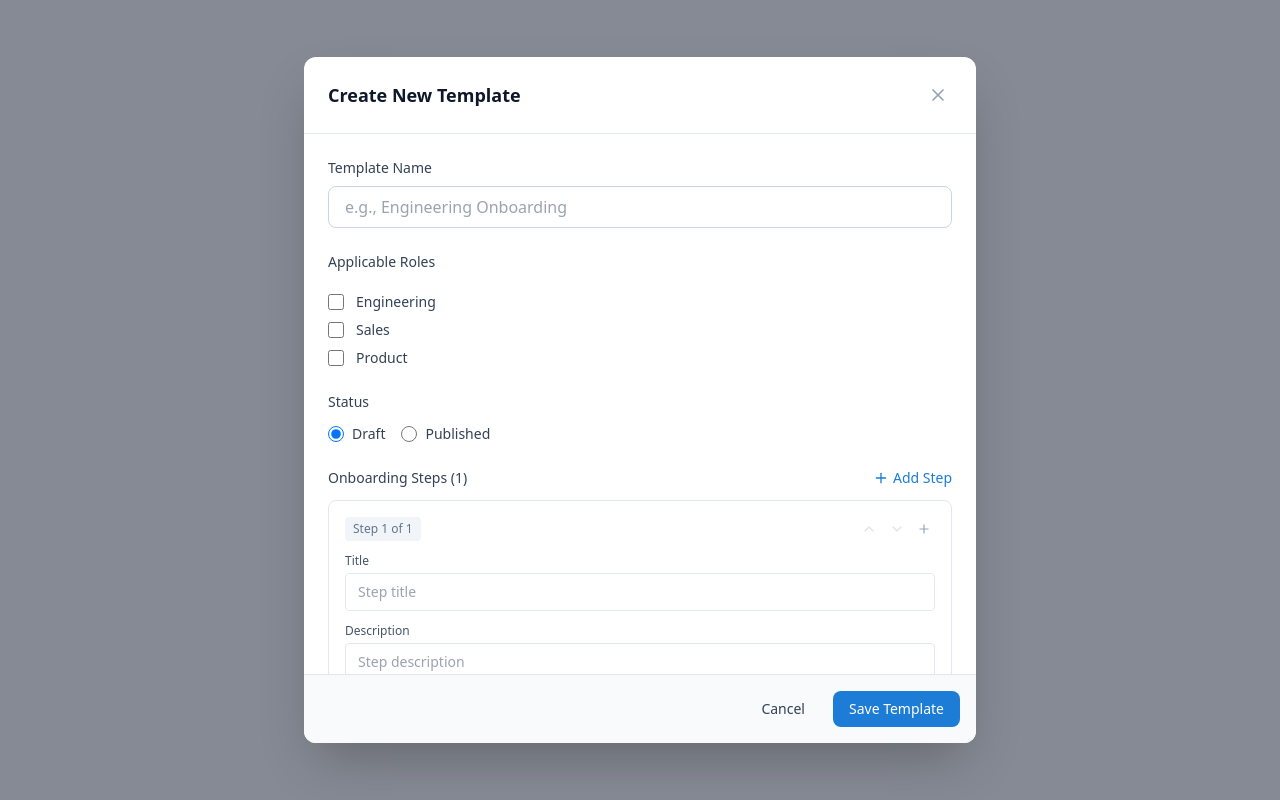
Test: TemplateModal › TemplateModal - step count › should update step count when adding steps
Click the button with aria-label "add new step": (912, 478) [873,468,952,488]
(page scrolled)
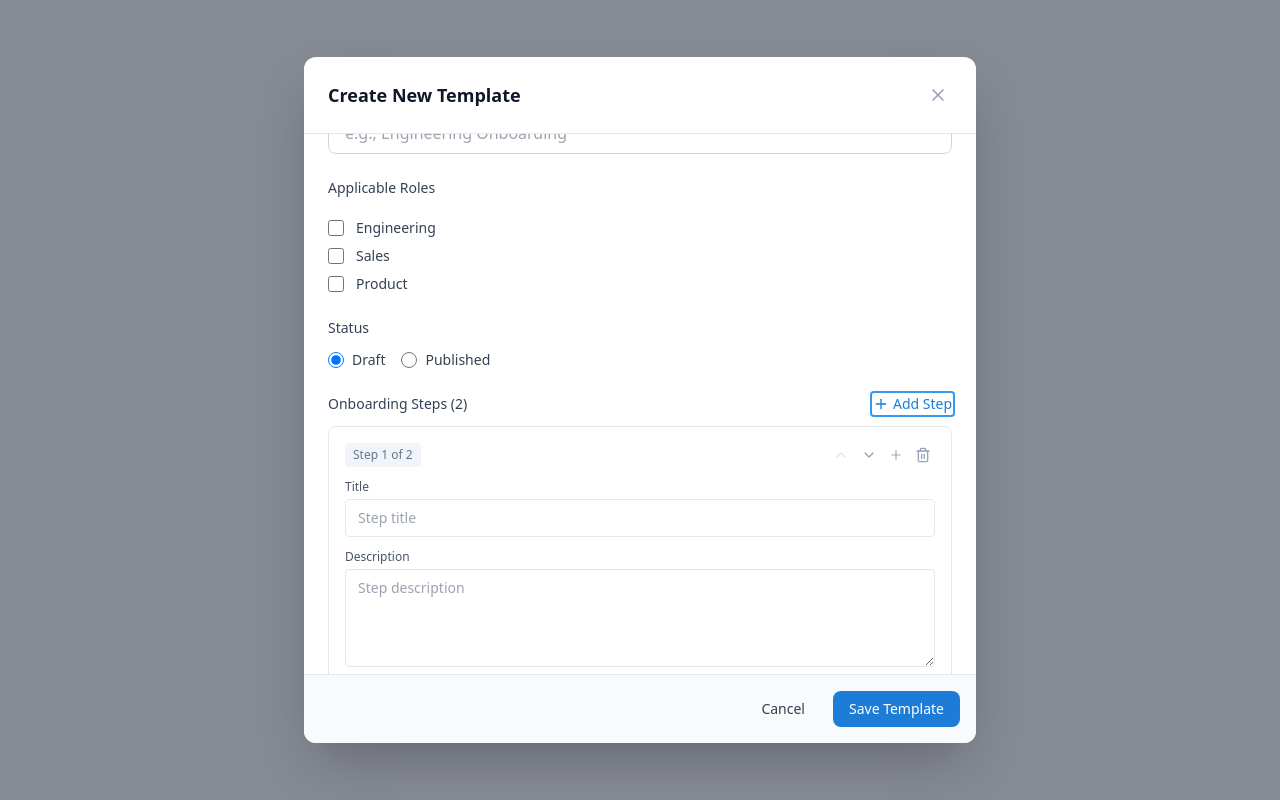
Result: the text "Onboarding Steps (2)" is shown at [328,394,467,414]
